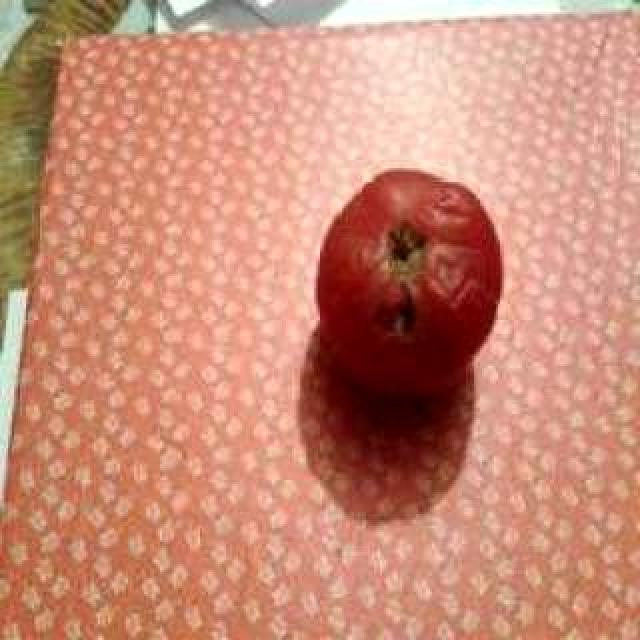Rotten_Tomato: (308, 158, 524, 420)
